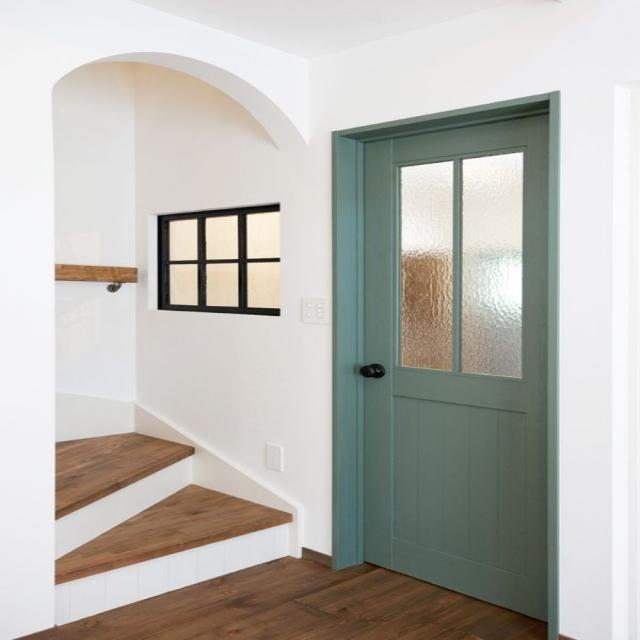door: (344, 96, 554, 624)
